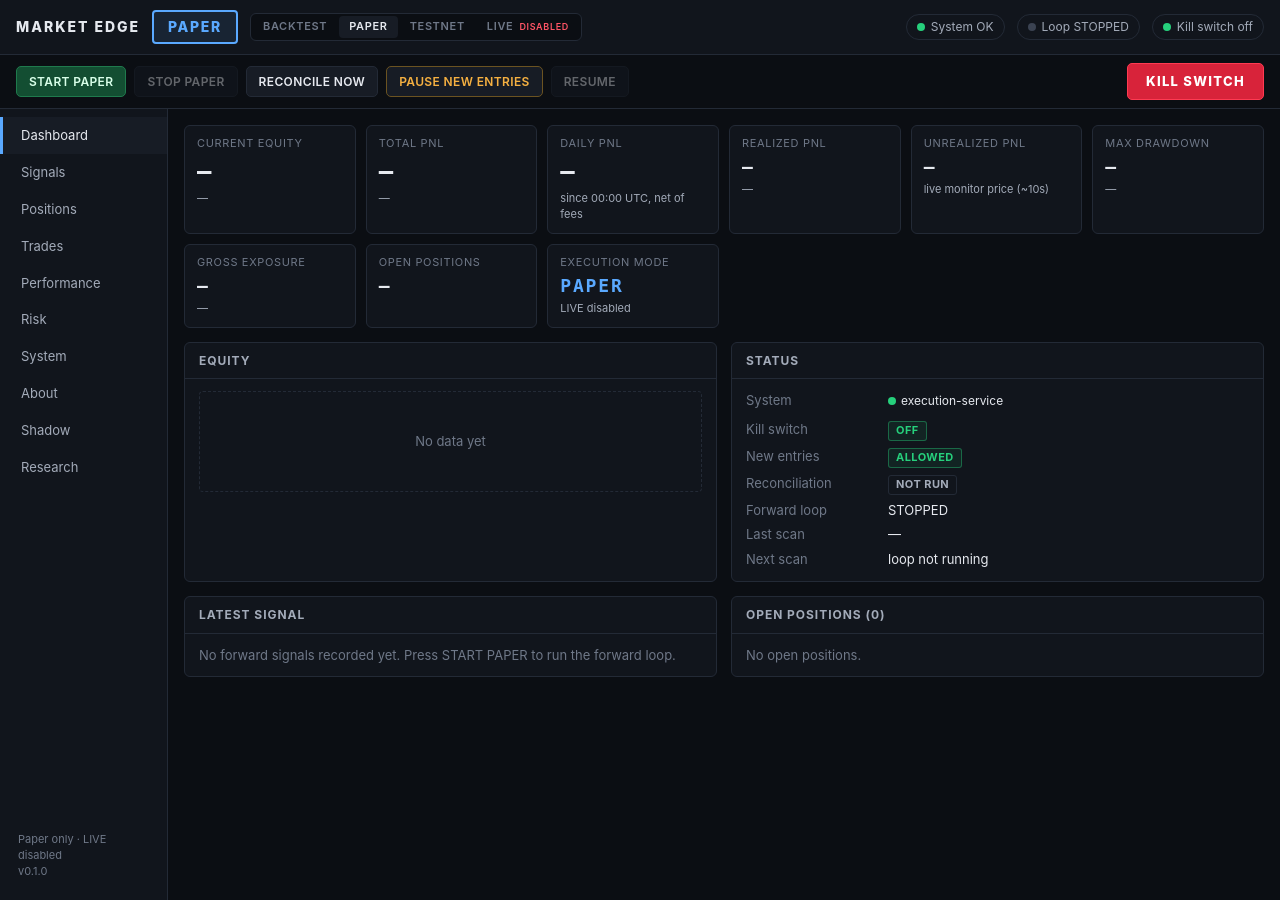
open trades are clickable › clicking an open trade in the app opens Trade Detail with its chart, and Back returns
The image size is (1280, 900).
Click the button "Positions".
click(84, 209)  # box [0,191,167,228]
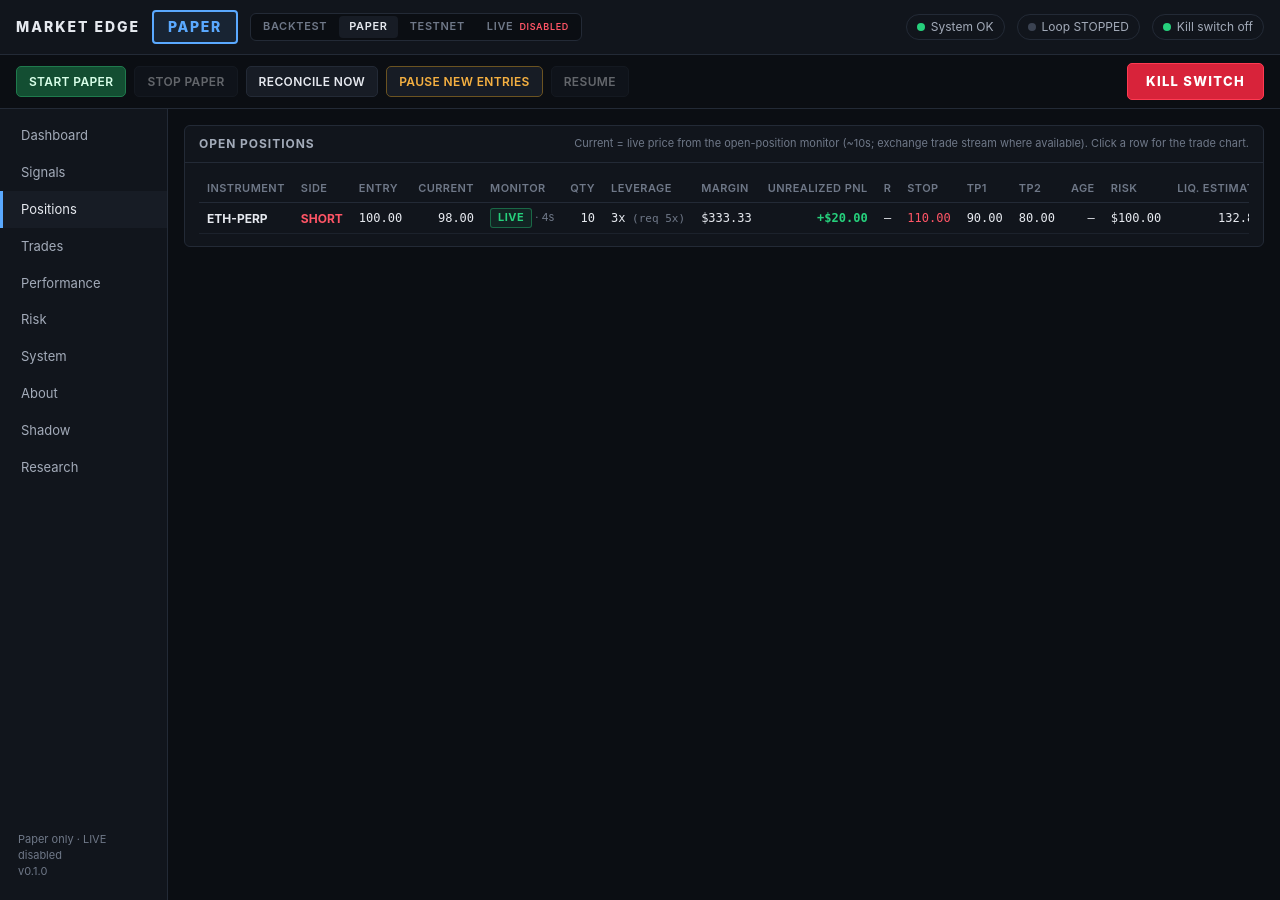
Click the text "ETH-PERP".
click(740, 218)  # box [199,203,1279,234]
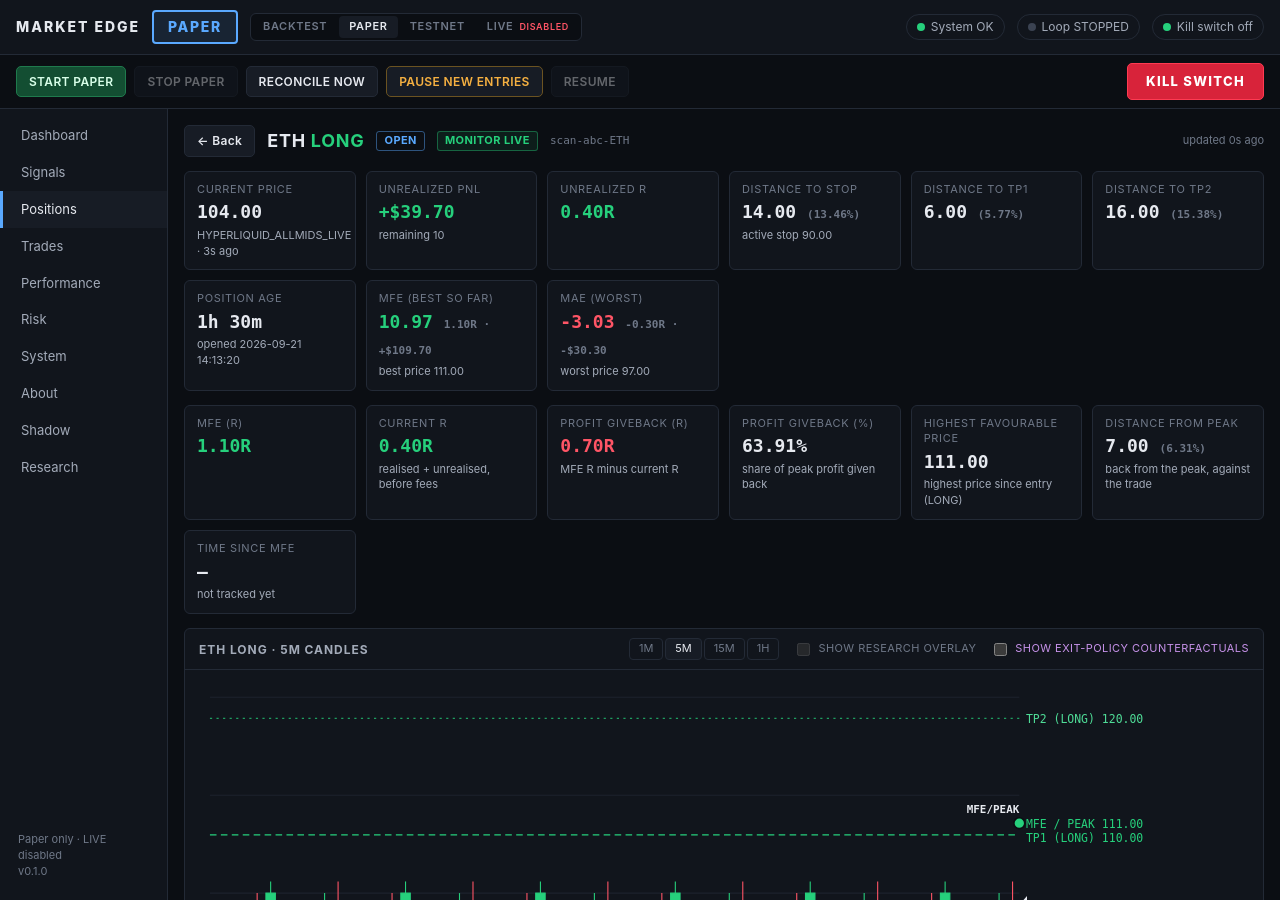
Click the button with aria-label "Back to list".
click(220, 141)  # box [184,125,255,156]
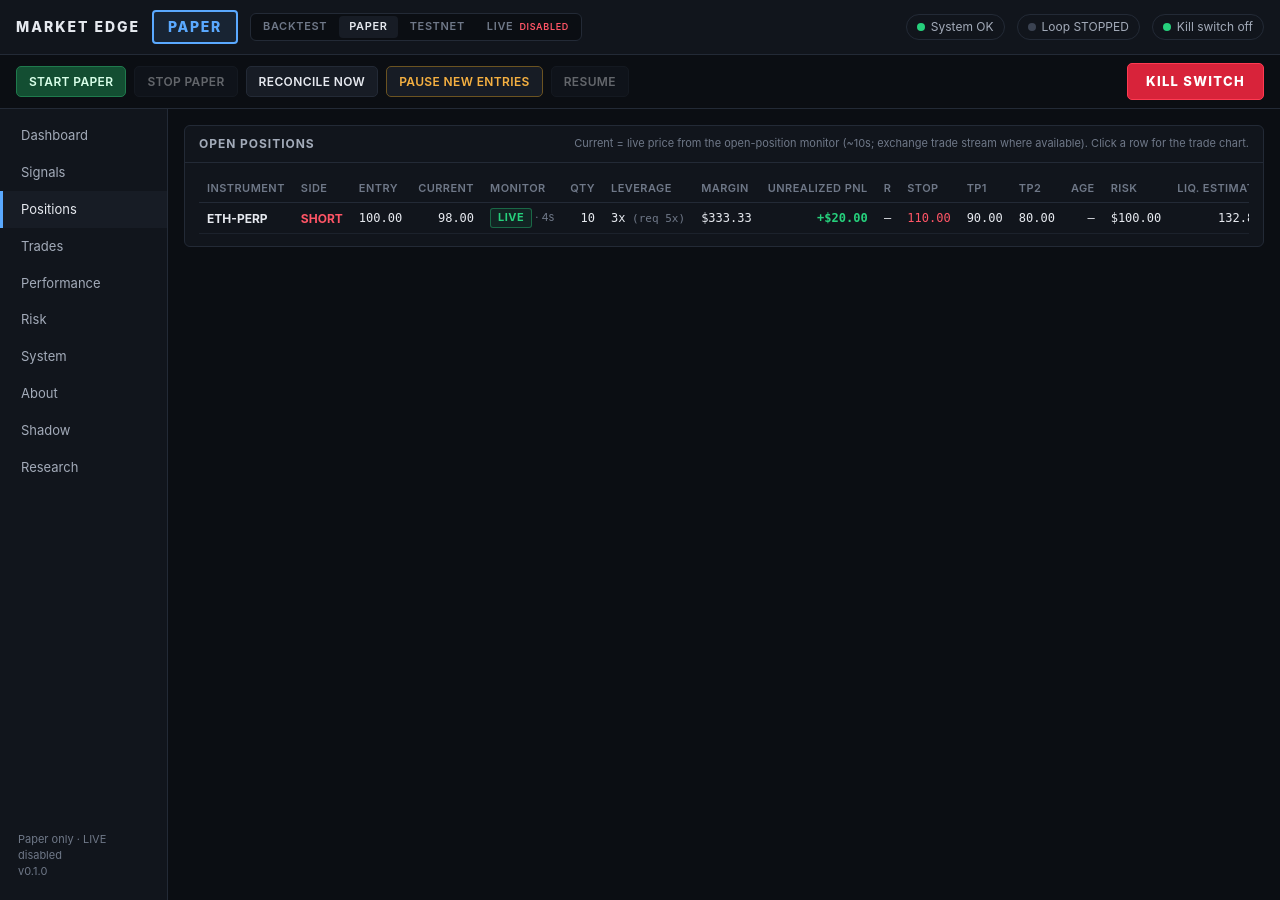
Now the text "ETH-PERP" is shown, box [207,211,268,226]
